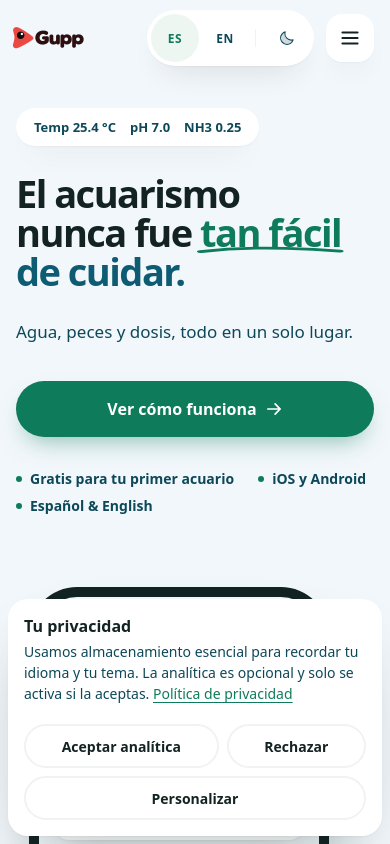
Test: mobile menu › closes when a link is chosen
The width and height of the screenshot is (390, 844).
Click the button named "Abrir menú" at (350, 38), box [326, 14, 374, 62]
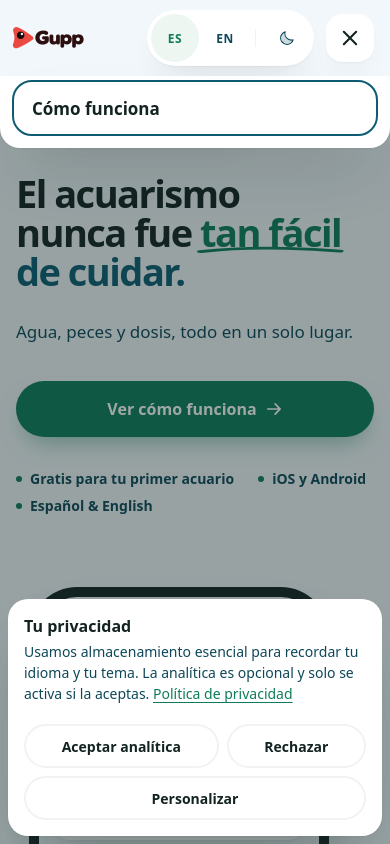
Click the link "Cómo funciona" at (96, 108), box [32, 96, 160, 120]
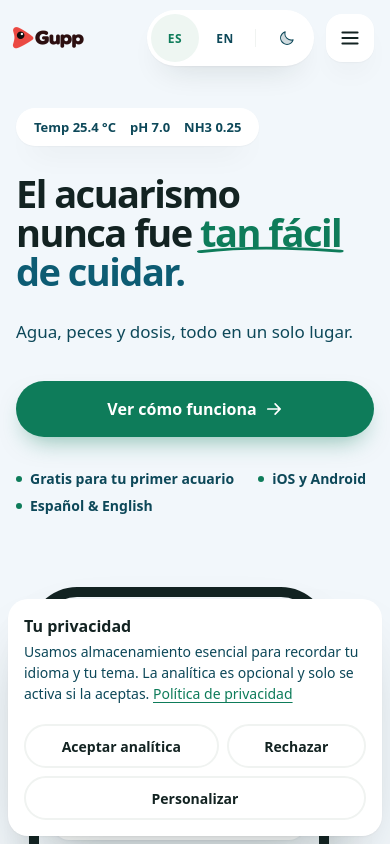
Expected: the button named "Abrir menú" is collapsed, [326, 14, 374, 62]
